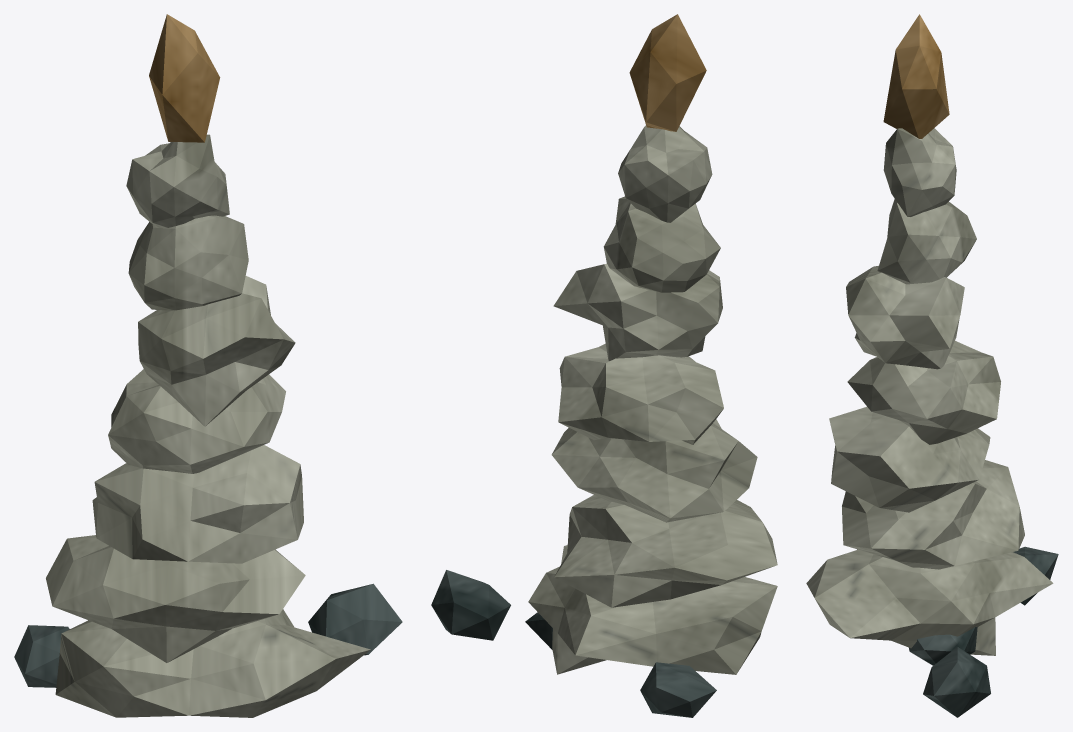
The model's file is 0623_cairn_23.glb.
3 views of the same model, side by side, from view 1: azimuth 30°, elevation 25°; view 2: azimuth 150°, elevation 25°; view 3: azimuth 270°, elevation 25° (orthographic). The views are drawn at different scales.
Parts seen in each view (by area): view 1: stone_light, stone_dark, brass; view 2: stone_light, stone_dark, brass; view 3: stone_light, brass, stone_dark.
Part boxes in pixels (x1,y1,x2,y2): stone_light: (46, 134, 370, 717); stone_dark: (14, 583, 402, 687); brass: (149, 14, 220, 142); stone_light: (528, 125, 777, 674); stone_dark: (431, 570, 716, 717); brass: (629, 14, 706, 131); stone_light: (806, 128, 1053, 655); brass: (883, 14, 949, 138); stone_dark: (909, 546, 1058, 717).
Size of the model in its own units: 1.47 by 2.79 by 1.05.
3 materials, 3 textured.
